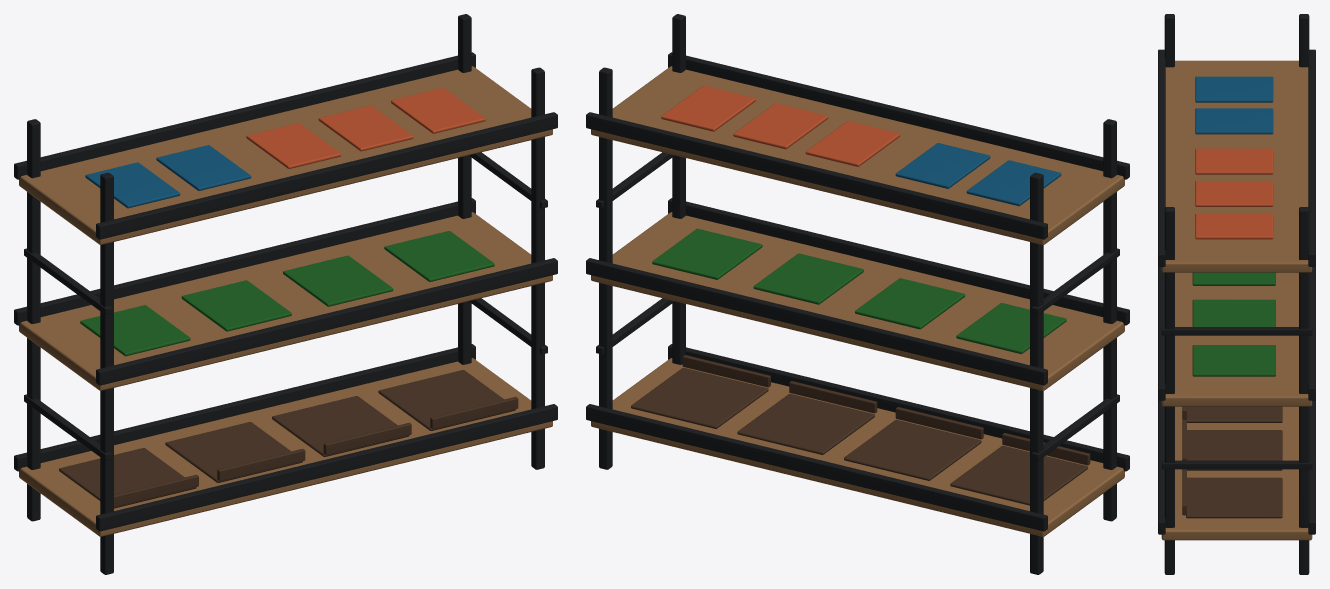
The model's file is Storage_Shelf.obj.
3 renders of one model, left to right at view 1: azimuth 30°, elevation 25°; view 2: azimuth 150°, elevation 25°; view 3: azimuth 270°, elevation 25°, orthographic. The views are drawn at different scales.
Parts seen in each view (by area): view 1: SM_Storage_Shelf_Wooden_Shelf.002, SM_Storage_Shelf_Wooden_Shelf.001, SM_Storage_Shelf_Wooden_Shelf, SM_Storage_Shelf_Front_Metal_Edge.002, SM_Storage_Shelf_Front_Metal_Edge, SM_Storage_Shelf_Front_Metal_Edge.001, SM_Storage_Shelf_Back_Metal_Edge.002, SM_Storage_Shelf_Back_Metal_Edge, SM_Storage_Shelf_Back_Metal_Edge.001, SM_Storage_Shelf_Metal_Post.002, SM_Storage_Shelf_Metal_Post.001, SM_Storage_Shelf_Metal_Post (+22 smaller); view 2: SM_Storage_Shelf_Wooden_Shelf.002, SM_Storage_Shelf_Wooden_Shelf.001, SM_Storage_Shelf_Wooden_Shelf, SM_Storage_Shelf_Back_Metal_Edge.002, SM_Storage_Shelf_Back_Metal_Edge, SM_Storage_Shelf_Back_Metal_Edge.001, SM_Storage_Shelf_Front_Metal_Edge.002, SM_Storage_Shelf_Front_Metal_Edge.001, SM_Storage_Shelf_Soil_Bag_Slot.003, SM_Storage_Shelf_Soil_Bag_Slot.001, SM_Storage_Shelf_Soil_Bag_Slot.002, SM_Storage_Shelf_Metal_Post.003 (+22 smaller); view 3: SM_Storage_Shelf_Wooden_Shelf.002, SM_Storage_Shelf_Wooden_Shelf.001, SM_Storage_Shelf_Wooden_Shelf, SM_Storage_Shelf_Soil_Bag_Slot.003, SM_Storage_Shelf_Metal_Post.002, SM_Storage_Shelf_Metal_Post.003, SM_Storage_Shelf_Soil_Bag_Slot.002, SM_Storage_Shelf_Fertilizer_Slot.003, SM_Storage_Shelf_Fertilizer_Slot.002, SM_Storage_Shelf_Trowel_Slot, SM_Storage_Shelf_Pruning_Shears_Slot, SM_Storage_Shelf_Pot_Slot (+15 smaller).
Part boxes in pixels (left/top/right/bottom): SM_Storage_Shelf_Wooden_Shelf.002: left=19, top=66, right=552, bottom=244; SM_Storage_Shelf_Wooden_Shelf.001: left=19, top=212, right=552, bottom=390; SM_Storage_Shelf_Wooden_Shelf: left=19, top=358, right=552, bottom=536; SM_Storage_Shelf_Front_Metal_Edge.002: left=96, top=112, right=557, bottom=239; SM_Storage_Shelf_Front_Metal_Edge: left=96, top=404, right=557, bottom=531; SM_Storage_Shelf_Front_Metal_Edge.001: left=96, top=258, right=557, bottom=385; SM_Storage_Shelf_Back_Metal_Edge.002: left=14, top=52, right=475, bottom=179; SM_Storage_Shelf_Back_Metal_Edge: left=14, top=344, right=475, bottom=471; SM_Storage_Shelf_Back_Metal_Edge.001: left=14, top=198, right=475, bottom=325; SM_Storage_Shelf_Metal_Post.002: left=531, top=67, right=544, bottom=469; SM_Storage_Shelf_Metal_Post.001: left=27, top=119, right=40, bottom=521; SM_Storage_Shelf_Metal_Post: left=100, top=172, right=113, bottom=574; SM_Storage_Shelf_Wooden_Shelf.002: left=591, top=66, right=1124, bottom=244; SM_Storage_Shelf_Wooden_Shelf.001: left=591, top=212, right=1124, bottom=390; SM_Storage_Shelf_Wooden_Shelf: left=591, top=358, right=1124, bottom=536; SM_Storage_Shelf_Back_Metal_Edge.002: left=586, top=112, right=1047, bottom=239; SM_Storage_Shelf_Back_Metal_Edge: left=586, top=404, right=1047, bottom=531; SM_Storage_Shelf_Back_Metal_Edge.001: left=586, top=258, right=1047, bottom=385; SM_Storage_Shelf_Front_Metal_Edge.002: left=668, top=52, right=1129, bottom=179; SM_Storage_Shelf_Front_Metal_Edge.001: left=668, top=198, right=1129, bottom=325; SM_Storage_Shelf_Soil_Bag_Slot.003: left=631, top=367, right=768, bottom=428; SM_Storage_Shelf_Soil_Bag_Slot.001: left=844, top=419, right=981, bottom=480; SM_Storage_Shelf_Soil_Bag_Slot.002: left=737, top=393, right=874, bottom=454; SM_Storage_Shelf_Metal_Post.003: left=599, top=67, right=612, bottom=469; SM_Storage_Shelf_Wooden_Shelf.002: left=1161, top=60, right=1312, bottom=272; SM_Storage_Shelf_Wooden_Shelf.001: left=1161, top=272, right=1312, bottom=406; SM_Storage_Shelf_Wooden_Shelf: left=1161, top=406, right=1312, bottom=540; SM_Storage_Shelf_Soil_Bag_Slot.003: left=1186, top=477, right=1282, bottom=518; SM_Storage_Shelf_Metal_Post.002: left=1164, top=207, right=1174, bottom=574; SM_Storage_Shelf_Metal_Post.003: left=1299, top=207, right=1309, bottom=574; SM_Storage_Shelf_Soil_Bag_Slot.002: left=1187, top=430, right=1282, bottom=470; SM_Storage_Shelf_Fertilizer_Slot.003: left=1192, top=345, right=1275, bottom=376; SM_Storage_Shelf_Fertilizer_Slot.002: left=1192, top=299, right=1275, bottom=326; SM_Storage_Shelf_Trowel_Slot: left=1195, top=76, right=1273, bottom=102; SM_Storage_Shelf_Pruning_Shears_Slot: left=1195, top=108, right=1273, bottom=134; SM_Storage_Shelf_Pot_Slot: left=1195, top=148, right=1273, bottom=174.
Bounding box in the file's own units: 3.62 × 3 × 1.17.
